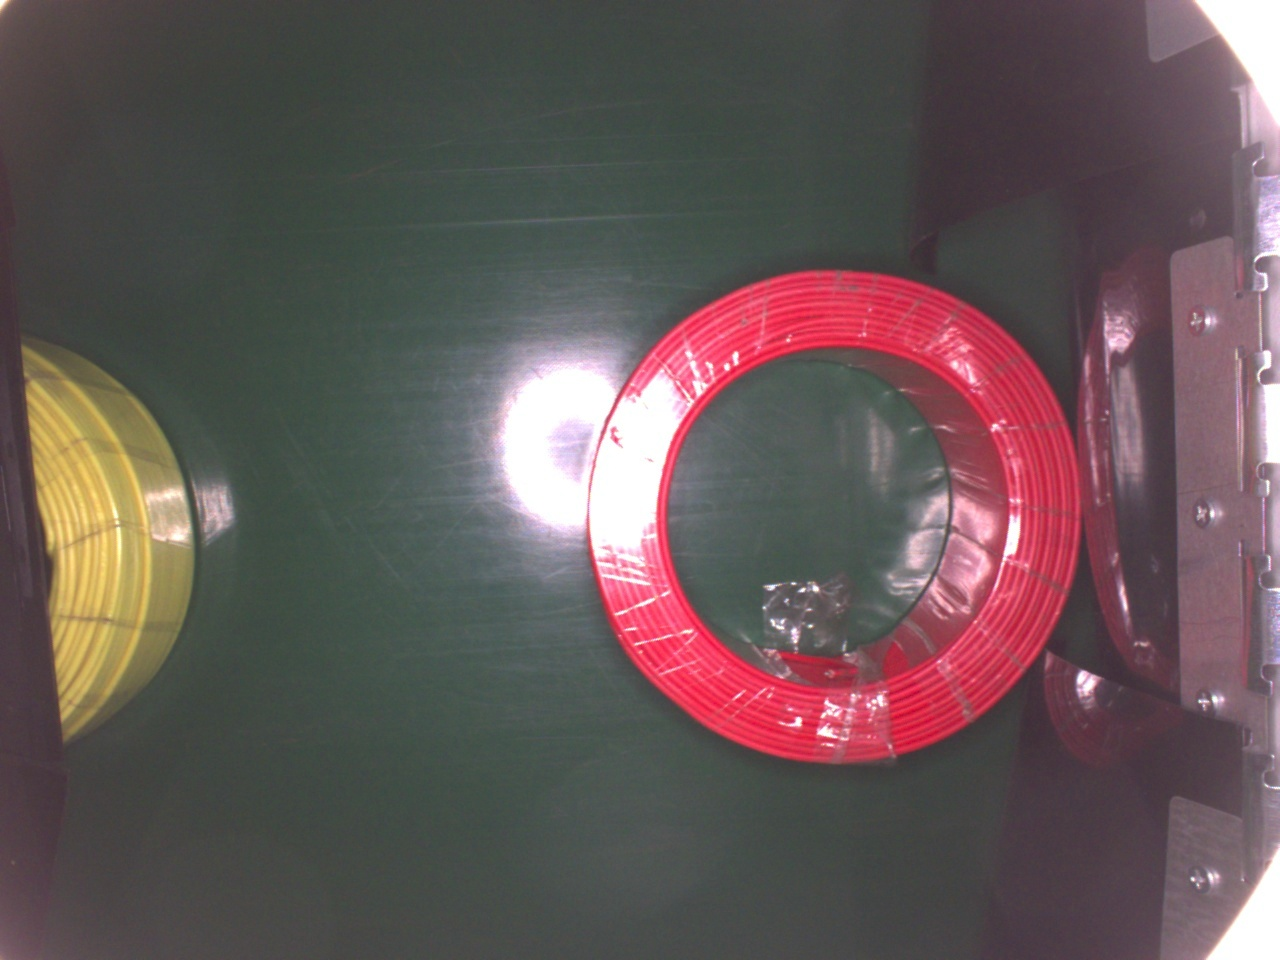red: (585, 261, 1084, 769)
yellow: (18, 334, 197, 750)
